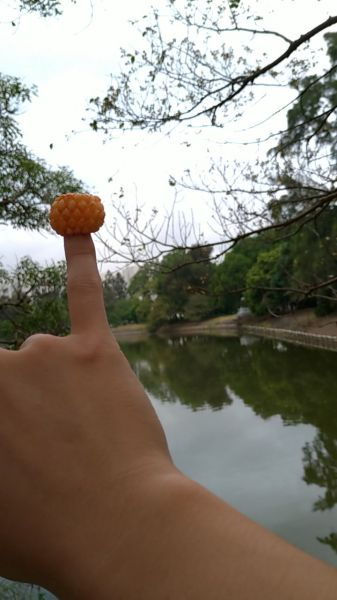eggs: (49, 191, 107, 235)
